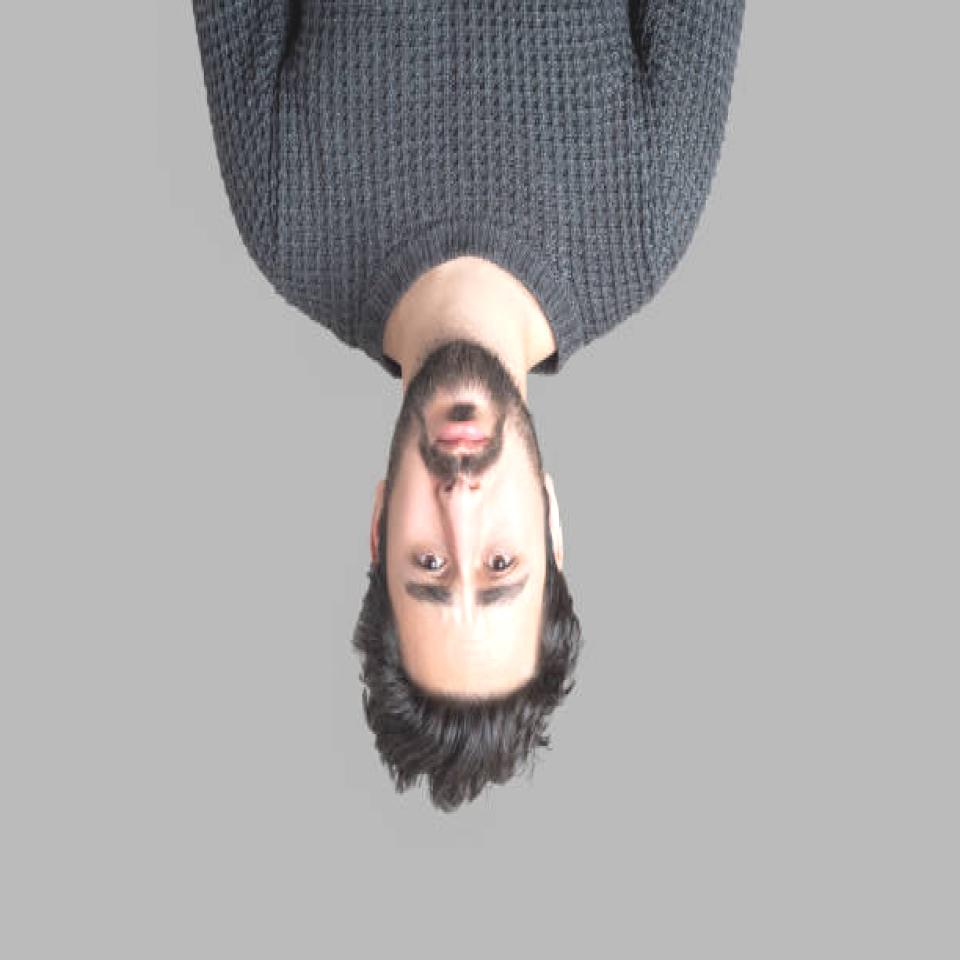Sadness: (382, 347, 546, 712)
